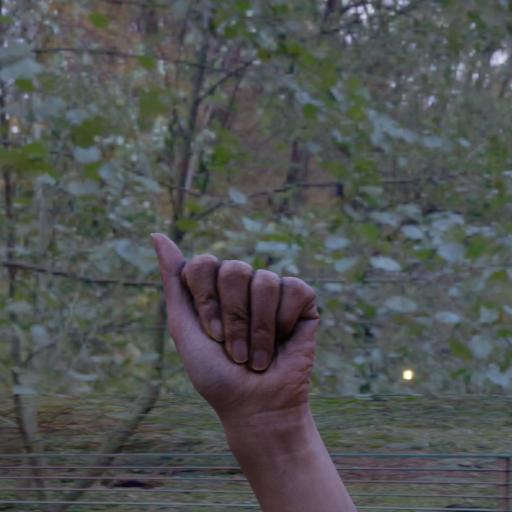A: (133, 214, 343, 445)
